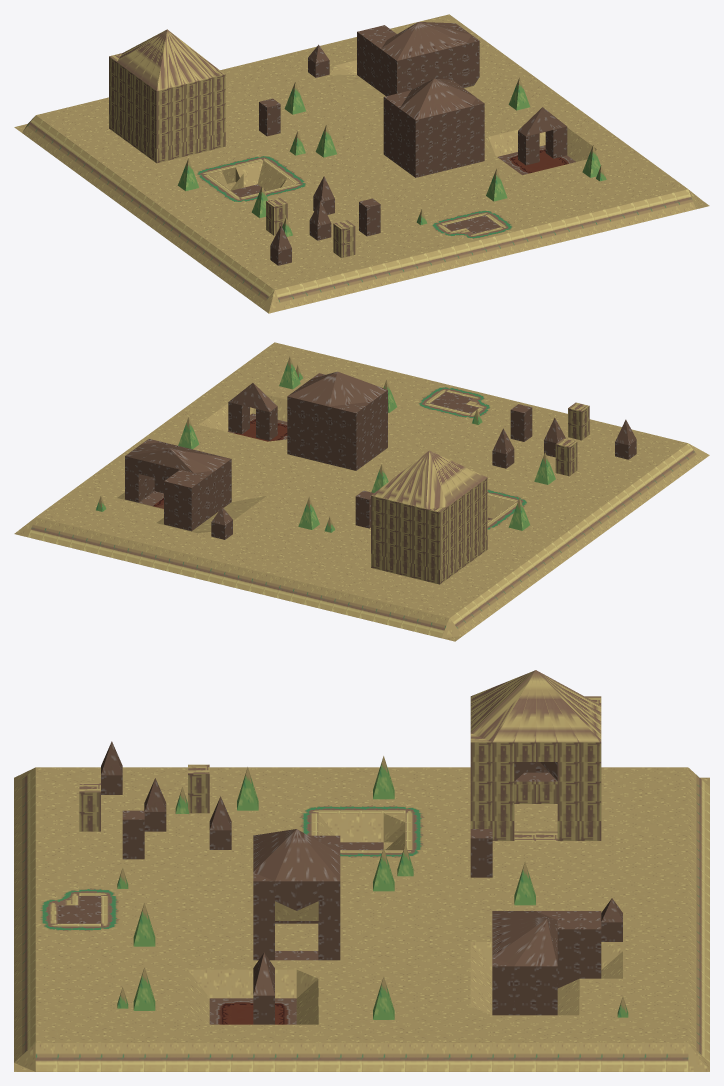
Rendered from chapter1_1.obj.
3 renders of one model, top to bottom at view 1: azimuth 30°, elevation 25°; view 2: azimuth 150°, elevation 25°; view 3: azimuth 270°, elevation 25°, orthographic. The views are drawn at different scales.
Parts seen in each view (by area): view 1: Default; view 2: Default; view 3: Default.
Part boxes in pixels (box(x1,y1,x2,y2)): Default: box(14, 14, 709, 313); Default: box(14, 342, 709, 641); Default: box(14, 670, 709, 1071).
Size of the model in its own units: 32 by 9.5 by 32.
Materials: 2 (2 with a texture image).
